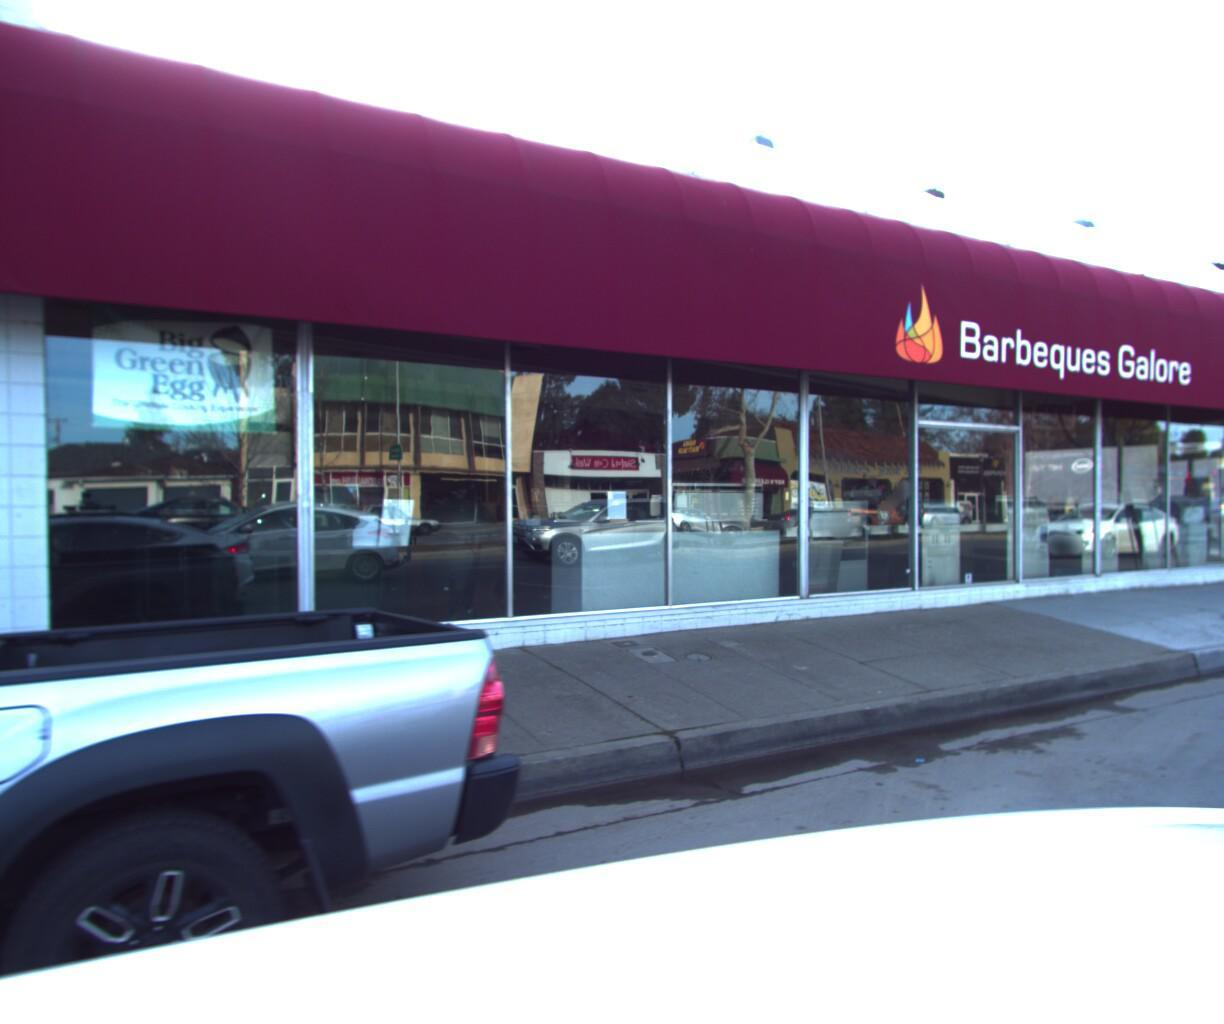car: (0, 410, 547, 1024)
